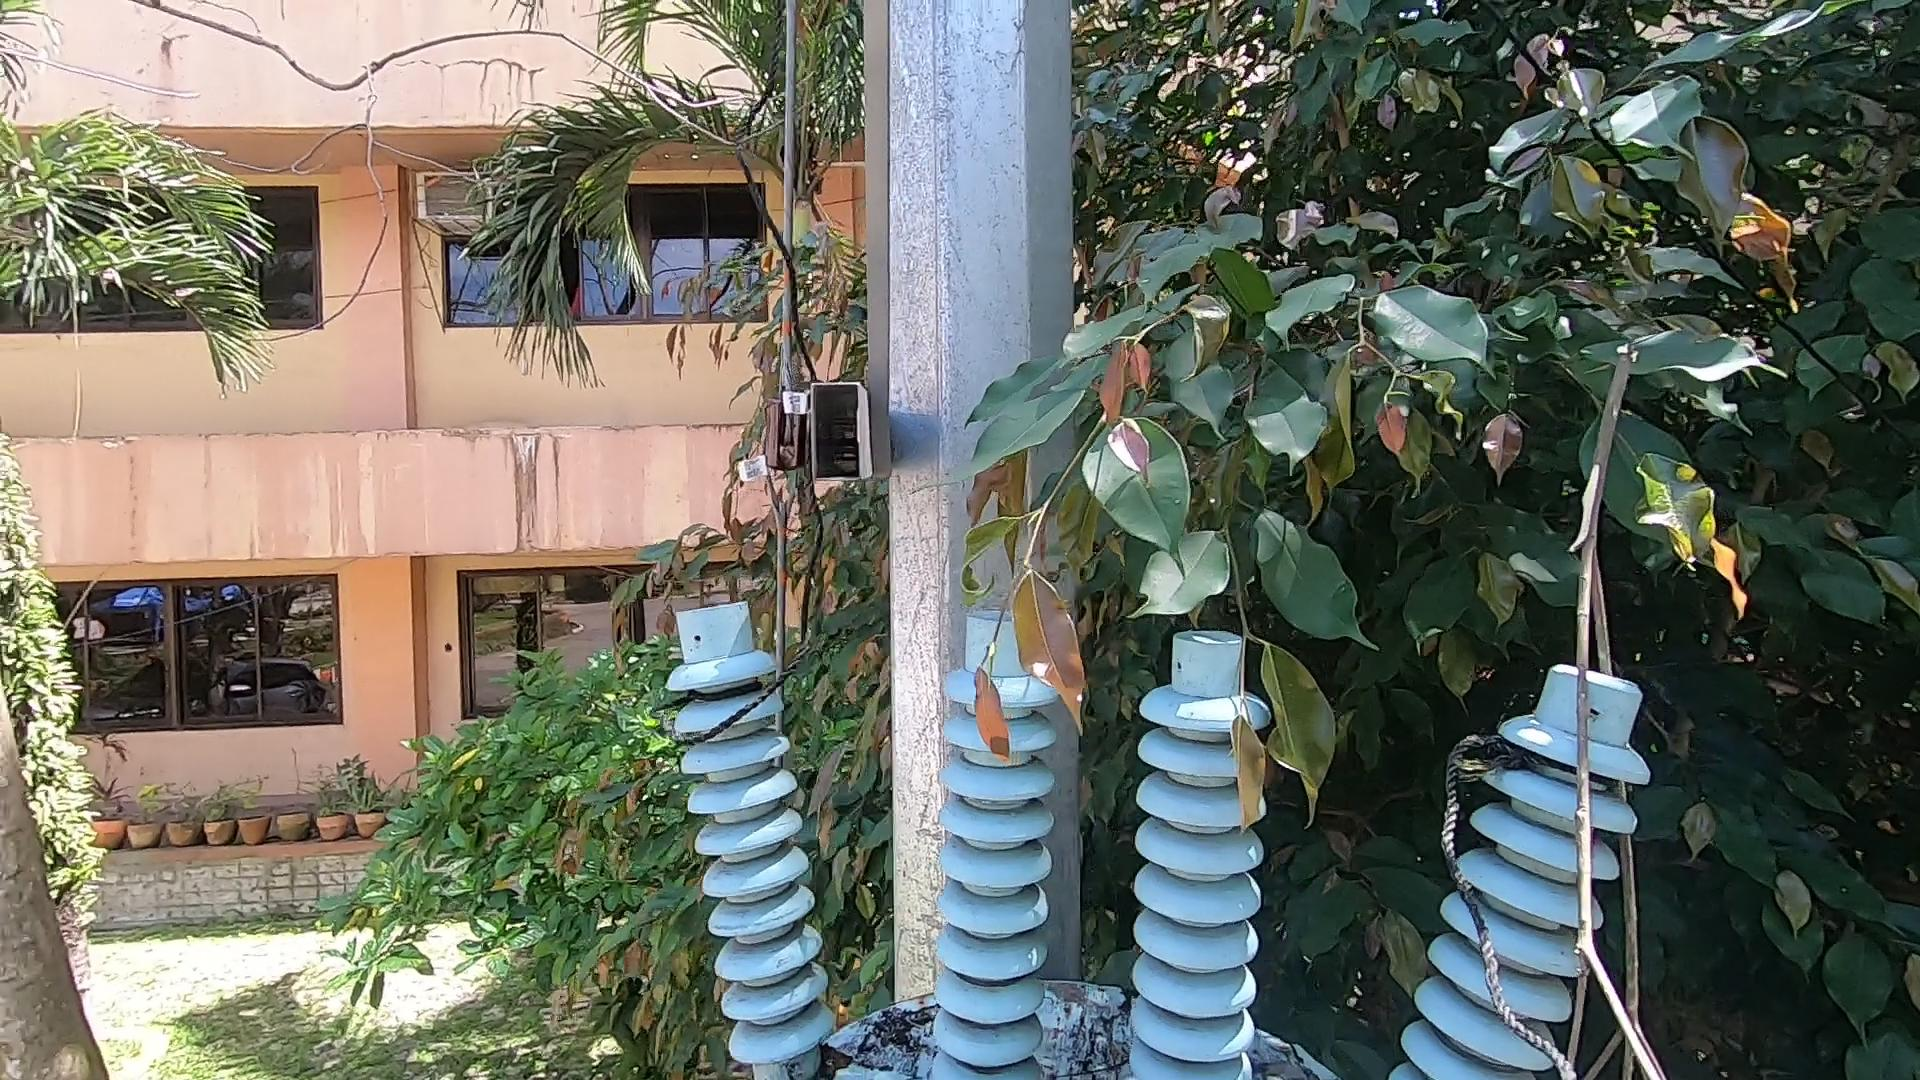tree branch: (1513, 335, 1688, 1077)
